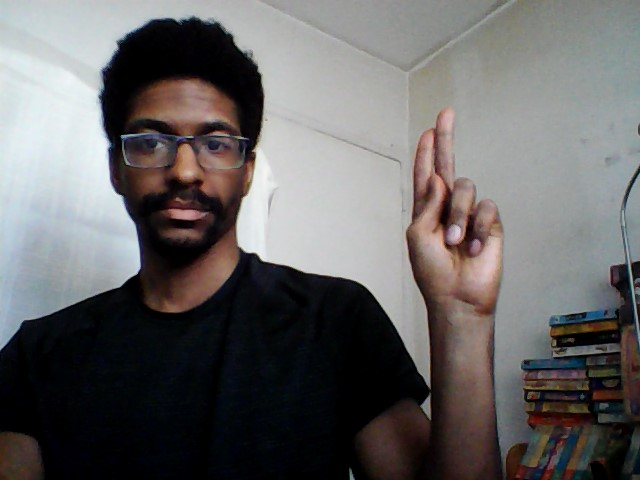k: (398, 104, 510, 313)
